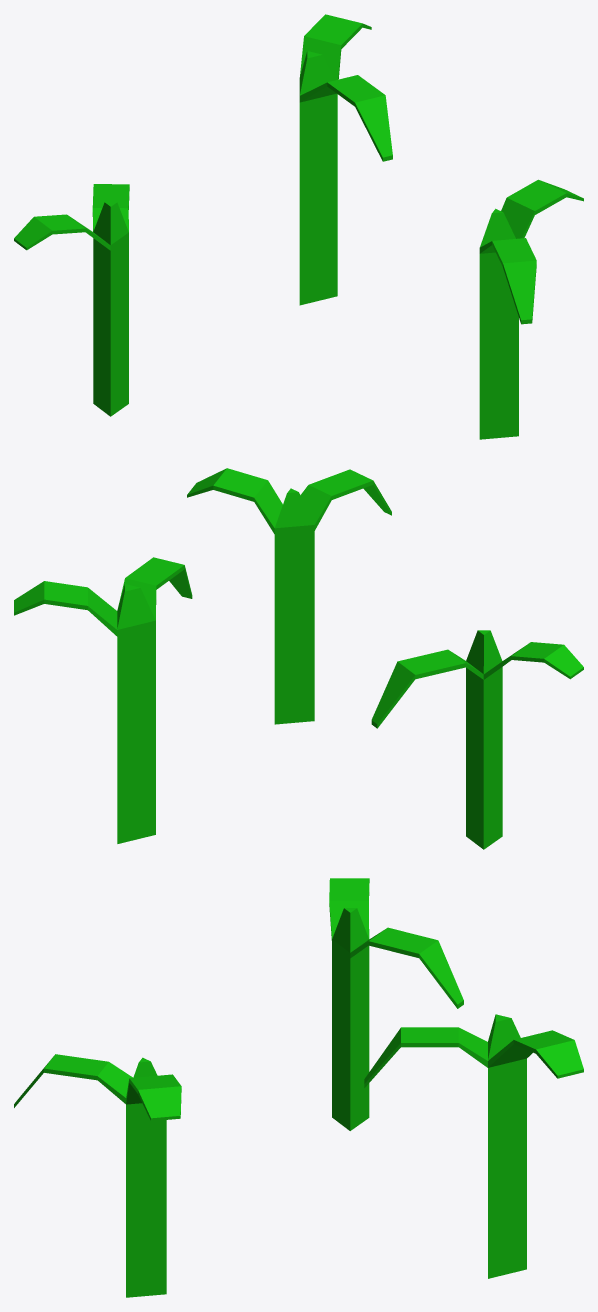
File: cornStage2.obj
3 views of the same model, one above another, from view 1: azimuth 30°, elevation 25°; view 2: azimuth 150°, elevation 25°; view 3: azimuth 270°, elevation 25° (orthographic). The views are drawn at different scales.
Parts seen in each view (by area): view 1: CornStage2; view 2: CornStage2; view 3: CornStage2.
Part boxes in pixels (x1=…): CornStage2: x1=14, y1=14, x2=583, y2=439; CornStage2: x1=14, y1=468, x2=583, y2=849; CornStage2: x1=14, y1=878, x2=583, y2=1297.
Bounding box in the file's own units: 1.92 × 1.01 × 1.94.
